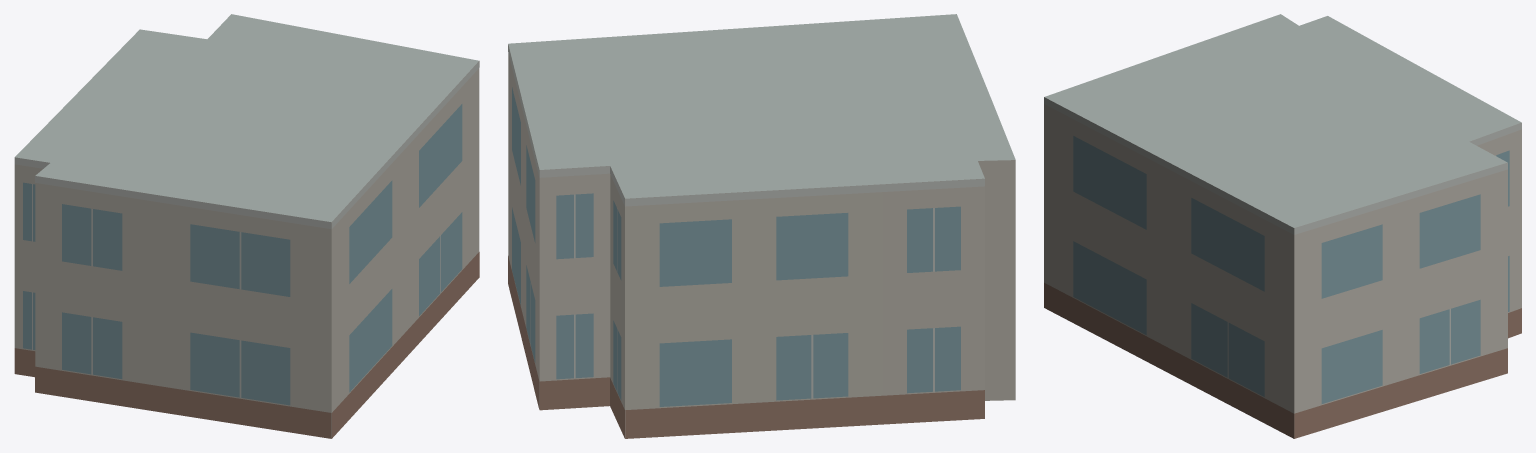
Rendered from survey-upis-32492884.glb.
3 views of the same model, side by side, from view 1: azimuth 30°, elevation 25°; view 2: azimuth 150°, elevation 25°; view 3: azimuth 270°, elevation 25° (orthographic). The views are drawn at different scales.
Parts seen in each view (by area): view 1: survey-upis-32492884.tmp; view 2: survey-upis-32492884.tmp; view 3: survey-upis-32492884.tmp.
Boxes of the visible parts, box(x1,y1,x2,y2) form: survey-upis-32492884.tmp: box(14, 14, 479, 438); survey-upis-32492884.tmp: box(508, 14, 1015, 438); survey-upis-32492884.tmp: box(1044, 14, 1521, 438).
Bounding box in the file's own units: 16.35 × 7.5 × 15.42.
